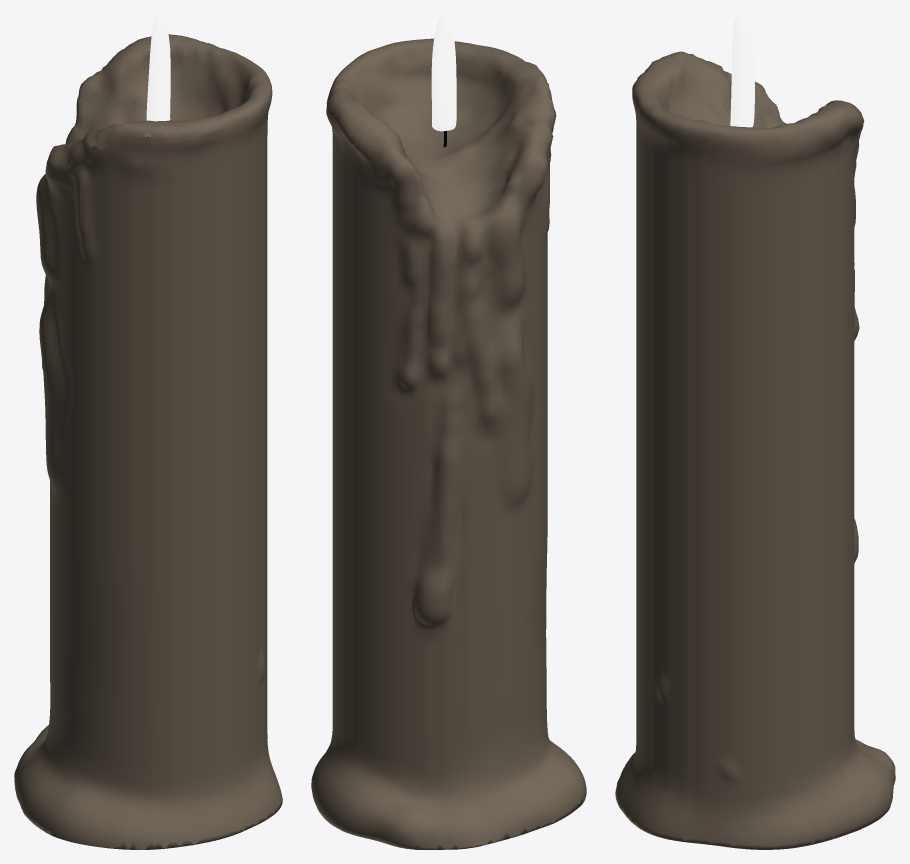
File: Candle.gltf
The picture shows the model from 3 angles, left to right: view 1: azimuth 30°, elevation 25°; view 2: azimuth 150°, elevation 25°; view 3: azimuth 270°, elevation 25°; orthographic projection.
Visible parts, largest first — view 1: Cylinder, Cylinder.001; view 2: Cylinder, Cylinder.001; view 3: Cylinder, Cylinder.001.
Part boxes in pixels (<box>): Cylinder: <box>14,34,282,849</box>; Cylinder.001: <box>146,14,170,121</box>; Cylinder: <box>311,38,586,849</box>; Cylinder.001: <box>431,14,456,131</box>; Cylinder: <box>615,51,895,849</box>; Cylinder.001: <box>730,14,754,127</box>.
Size of the model in its own units: 1.66 by 5.28 by 1.71.
